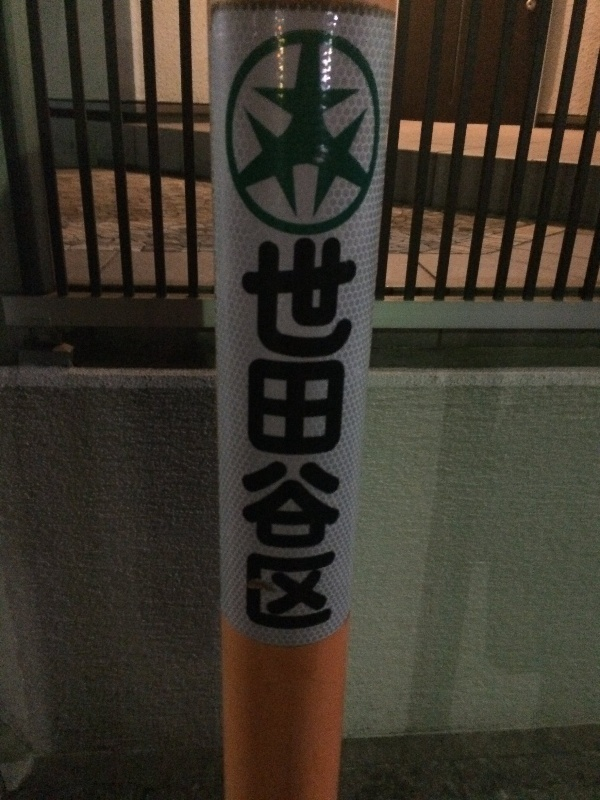text: (257, 236, 272, 631), (273, 236, 288, 631), (289, 236, 304, 631), (305, 236, 320, 631), (321, 236, 336, 631), (337, 236, 352, 631), (243, 236, 256, 631), (353, 236, 358, 631)
